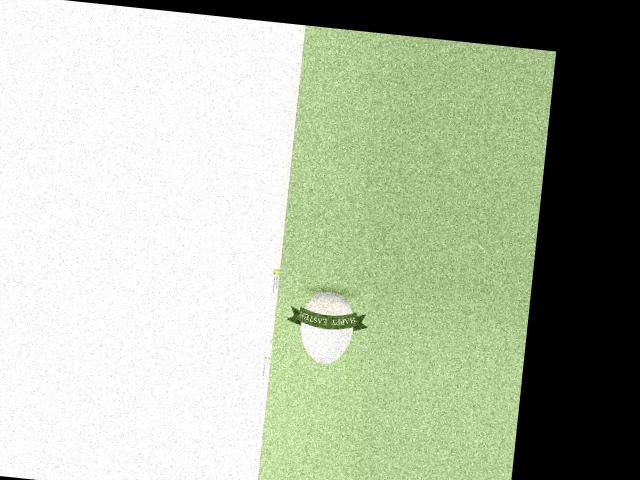egg: (296, 289, 355, 366)
